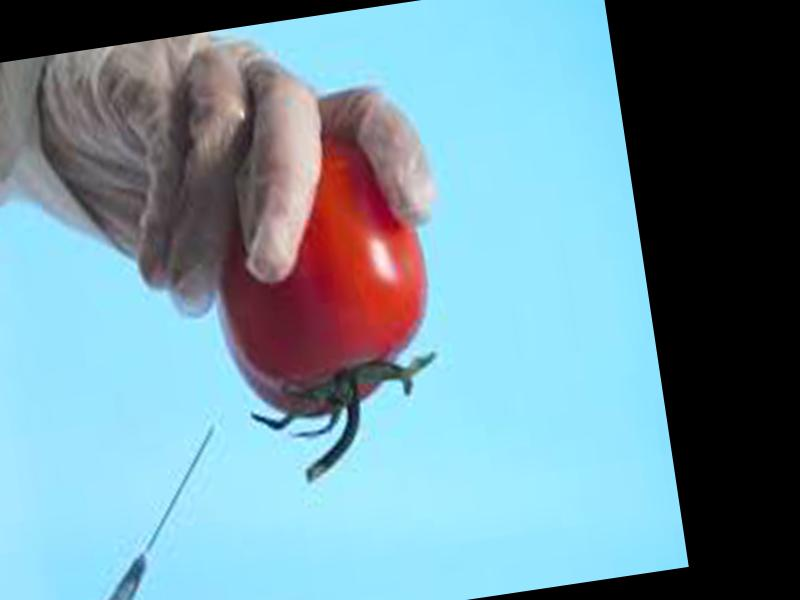Tomato: (199, 124, 445, 427)
